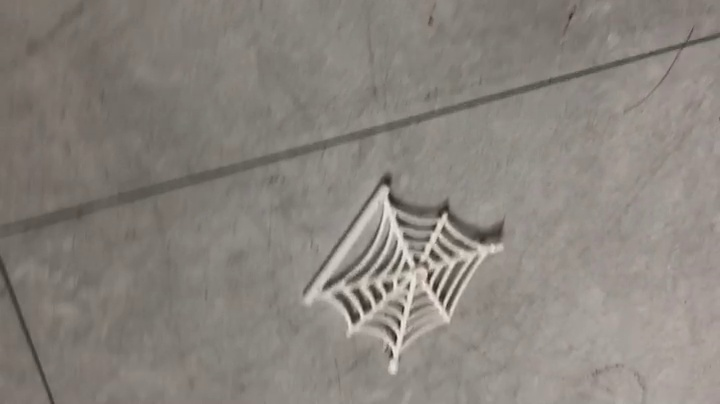web: (301, 170, 506, 376)
